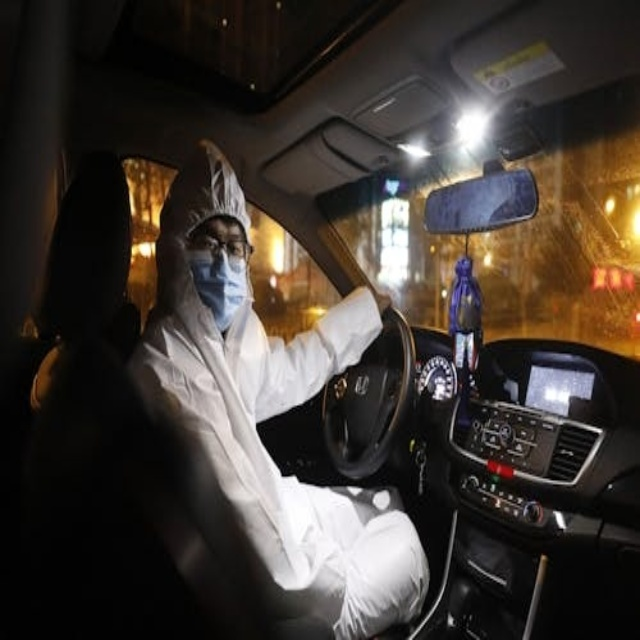Gafas: (192, 234, 255, 265)
Mascara: (187, 247, 249, 330)
